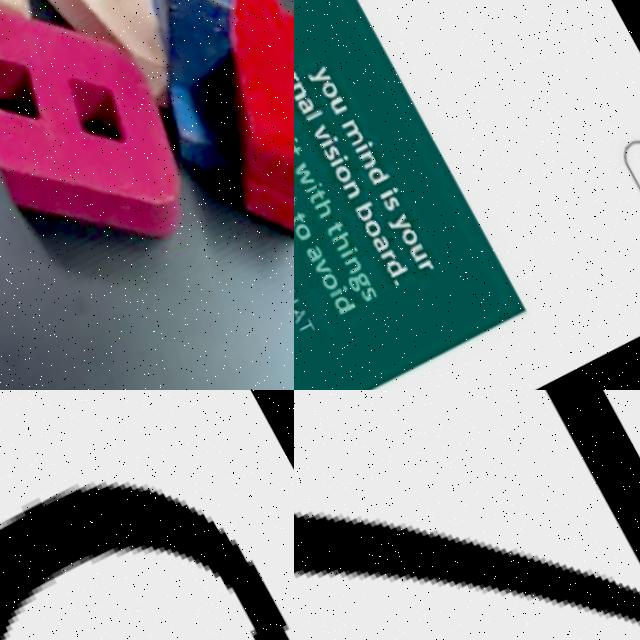7: (294, 390, 640, 640)
9: (0, 390, 294, 640)
A: (0, 0, 213, 290), (305, 238, 326, 259), (296, 92, 316, 112), (373, 230, 392, 250), (294, 300, 310, 321)
B: (355, 197, 379, 220)
D: (366, 158, 391, 183), (386, 250, 411, 275), (333, 287, 358, 312)
E: (236, 0, 294, 293)
G: (348, 266, 372, 290)
H: (315, 194, 338, 217), (333, 226, 356, 248)
I: (355, 136, 375, 151), (380, 180, 400, 195), (320, 132, 340, 147), (331, 151, 350, 165), (307, 177, 325, 191), (342, 241, 360, 255), (330, 281, 348, 295), (294, 132, 300, 147)
L: (304, 102, 326, 120)
M: (342, 114, 366, 143)
N: (359, 145, 379, 167), (343, 176, 362, 196), (344, 251, 363, 271), (294, 77, 308, 97), (294, 283, 300, 304)
O: (398, 221, 421, 244), (319, 265, 341, 289), (294, 215, 315, 240), (319, 75, 341, 98), (333, 158, 355, 181), (364, 214, 384, 236)
R: (418, 253, 436, 271), (381, 244, 398, 261), (294, 66, 300, 84)
S: (383, 190, 403, 209), (361, 280, 380, 299), (323, 140, 343, 158)
T: (296, 313, 317, 334), (326, 216, 348, 236), (309, 183, 329, 200), (294, 204, 310, 225), (294, 137, 306, 157), (294, 187, 301, 209)
U: (409, 237, 430, 258), (328, 92, 347, 112)
V: (312, 119, 331, 139), (313, 254, 332, 274)
W: (294, 157, 314, 184)
Y: (306, 60, 332, 86), (388, 208, 412, 231)
